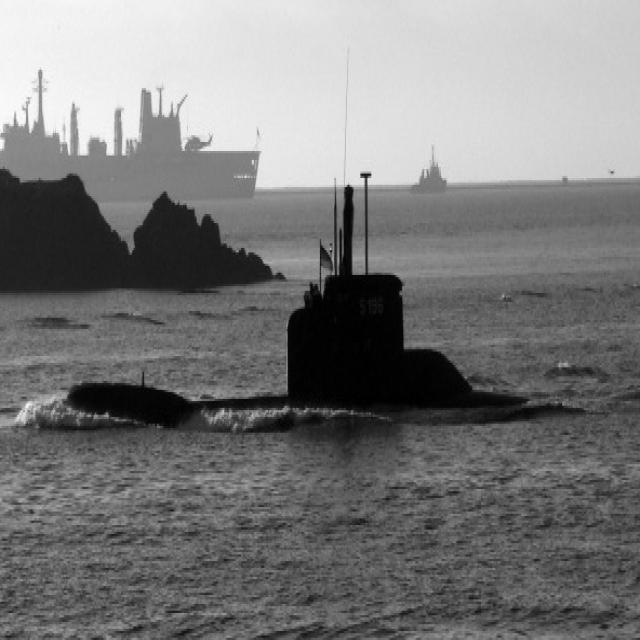submarine: (32, 272, 570, 420)
